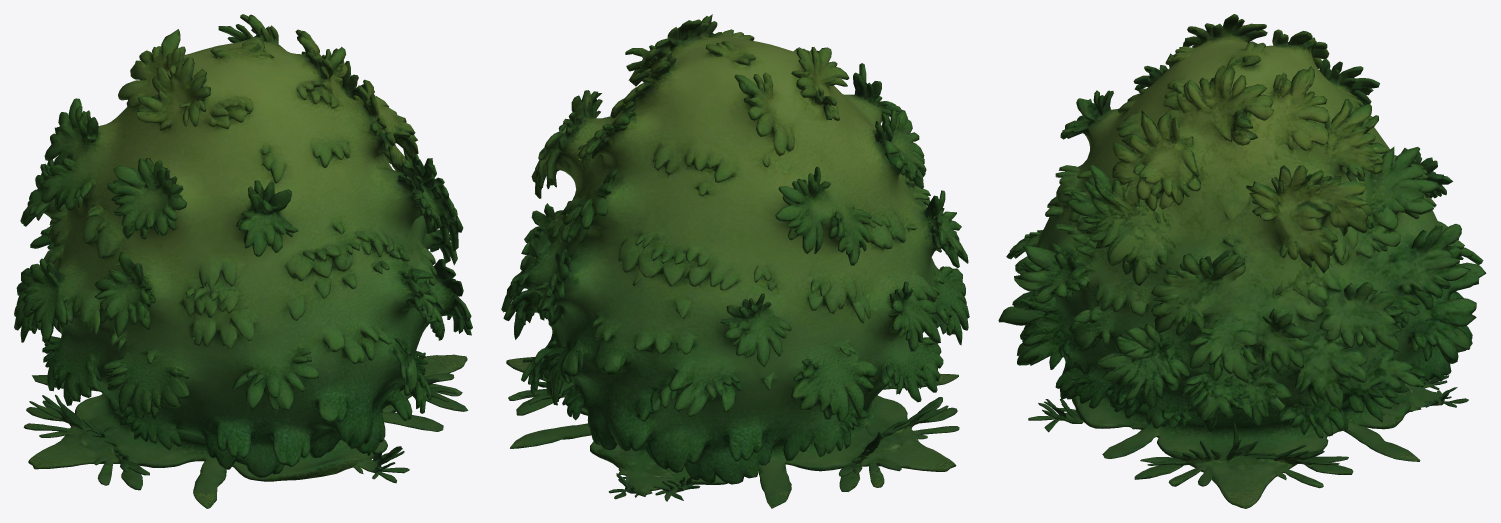
Rendered from bush3d1.glb.
3 views of the same model, side by side, from view 1: azimuth 30°, elevation 25°; view 2: azimuth 150°, elevation 25°; view 3: azimuth 270°, elevation 25° (orthographic). The views are drawn at different scales.
Parts seen in each view (by area): view 1: tripo_node_007d94af-5b20-4368-a50a-06dc96803fe7; view 2: tripo_node_007d94af-5b20-4368-a50a-06dc96803fe7; view 3: tripo_node_007d94af-5b20-4368-a50a-06dc96803fe7.
Boxes of the visible parts, left/top/right/bottom form: tripo_node_007d94af-5b20-4368-a50a-06dc96803fe7: left=14, top=14, right=472, bottom=508; tripo_node_007d94af-5b20-4368-a50a-06dc96803fe7: left=501, top=14, right=969, bottom=508; tripo_node_007d94af-5b20-4368-a50a-06dc96803fe7: left=998, top=14, right=1486, bottom=508.
Size of the model in its own units: 1 by 0.8193 by 0.9996.
1 material, 1 textured.
